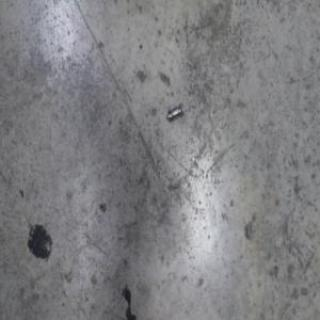Bolttrack_idkeyframe: (166, 104, 182, 124)
